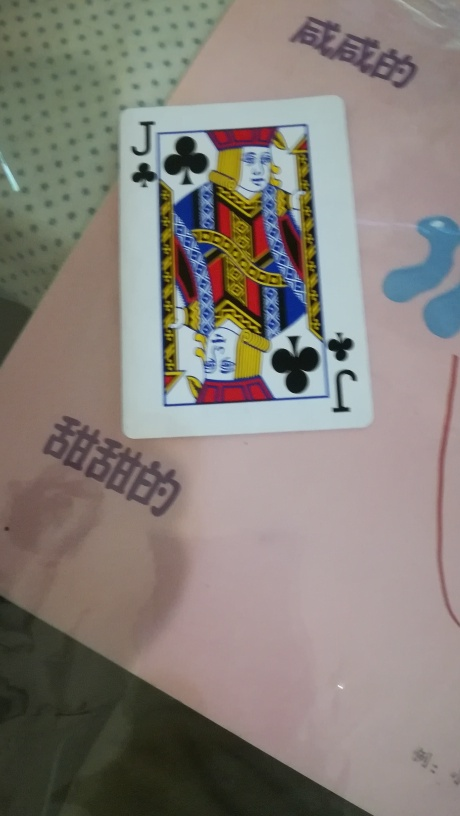mh j: (111, 95, 373, 440)
